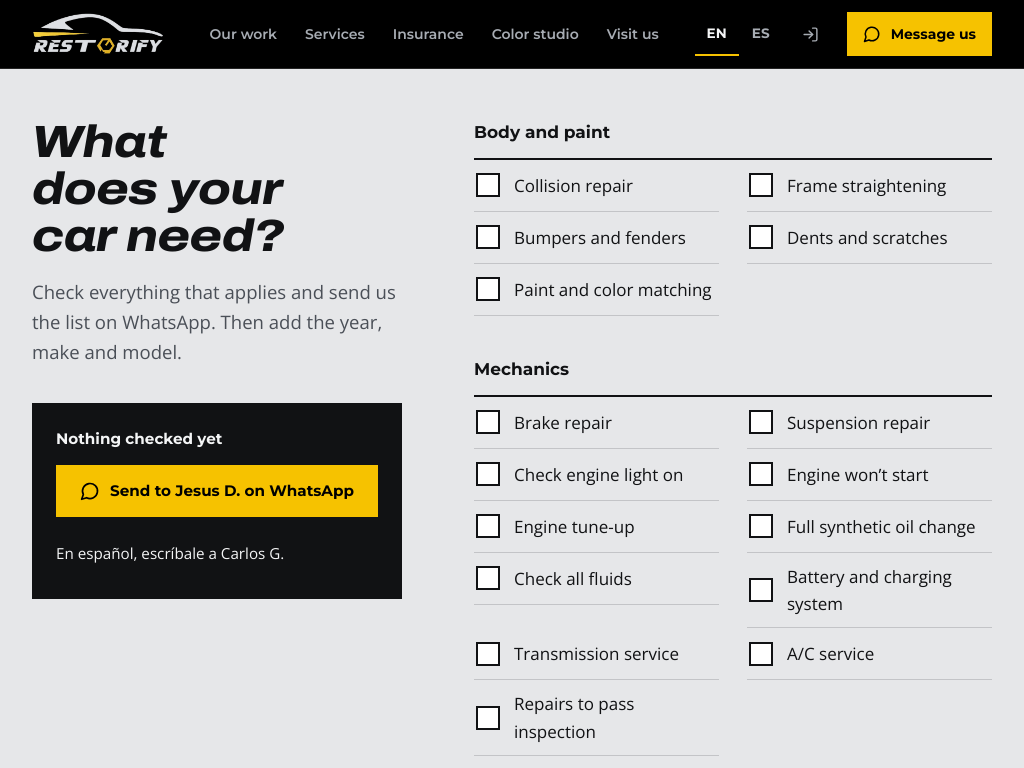
it: Landing › the service checklist writes the WhatsApp message, in each line’s language
(page scrolled)
Expected: the text "Nothing checked yet" is shown, [56,428,222,448]
What coordinates should you click on to do the following:
click the checkbox labelled "Brake repair"
I would click on:
 (488, 422)
Its box is [476,410,500,434].
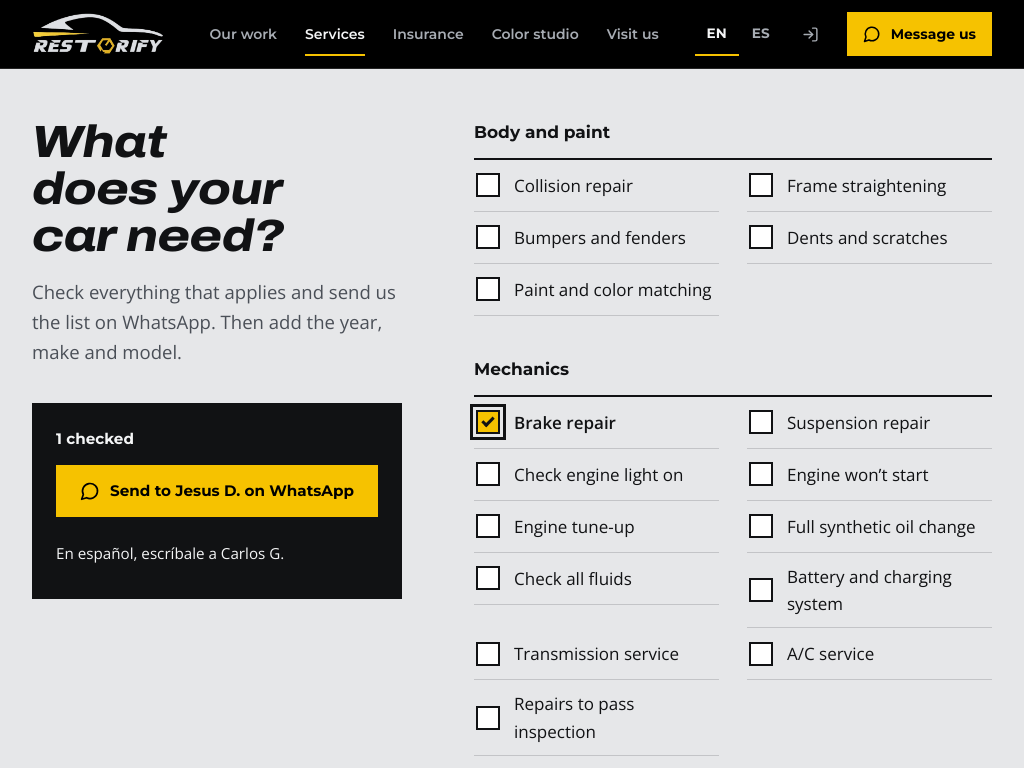
What coordinates should you click on to do the following:
click the checkbox labelled "A/C service"
I would click on:
 (761, 654)
Its box is [749,642,773,666].
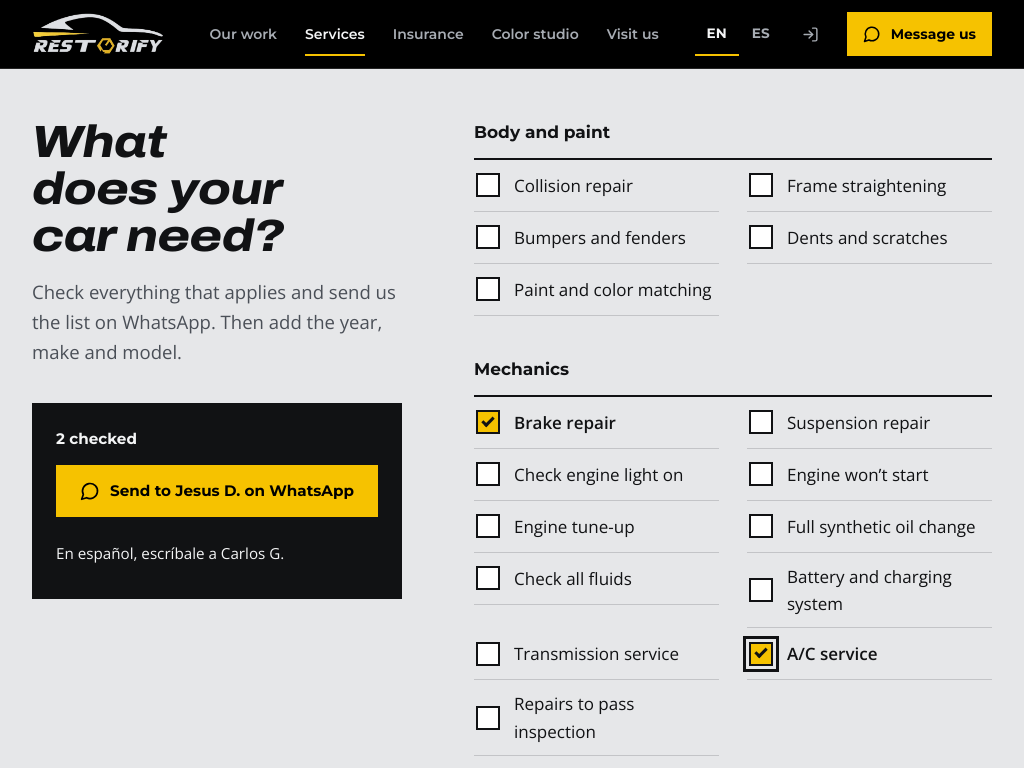
Result: the text "2 checked" is shown at [56,428,137,448]
